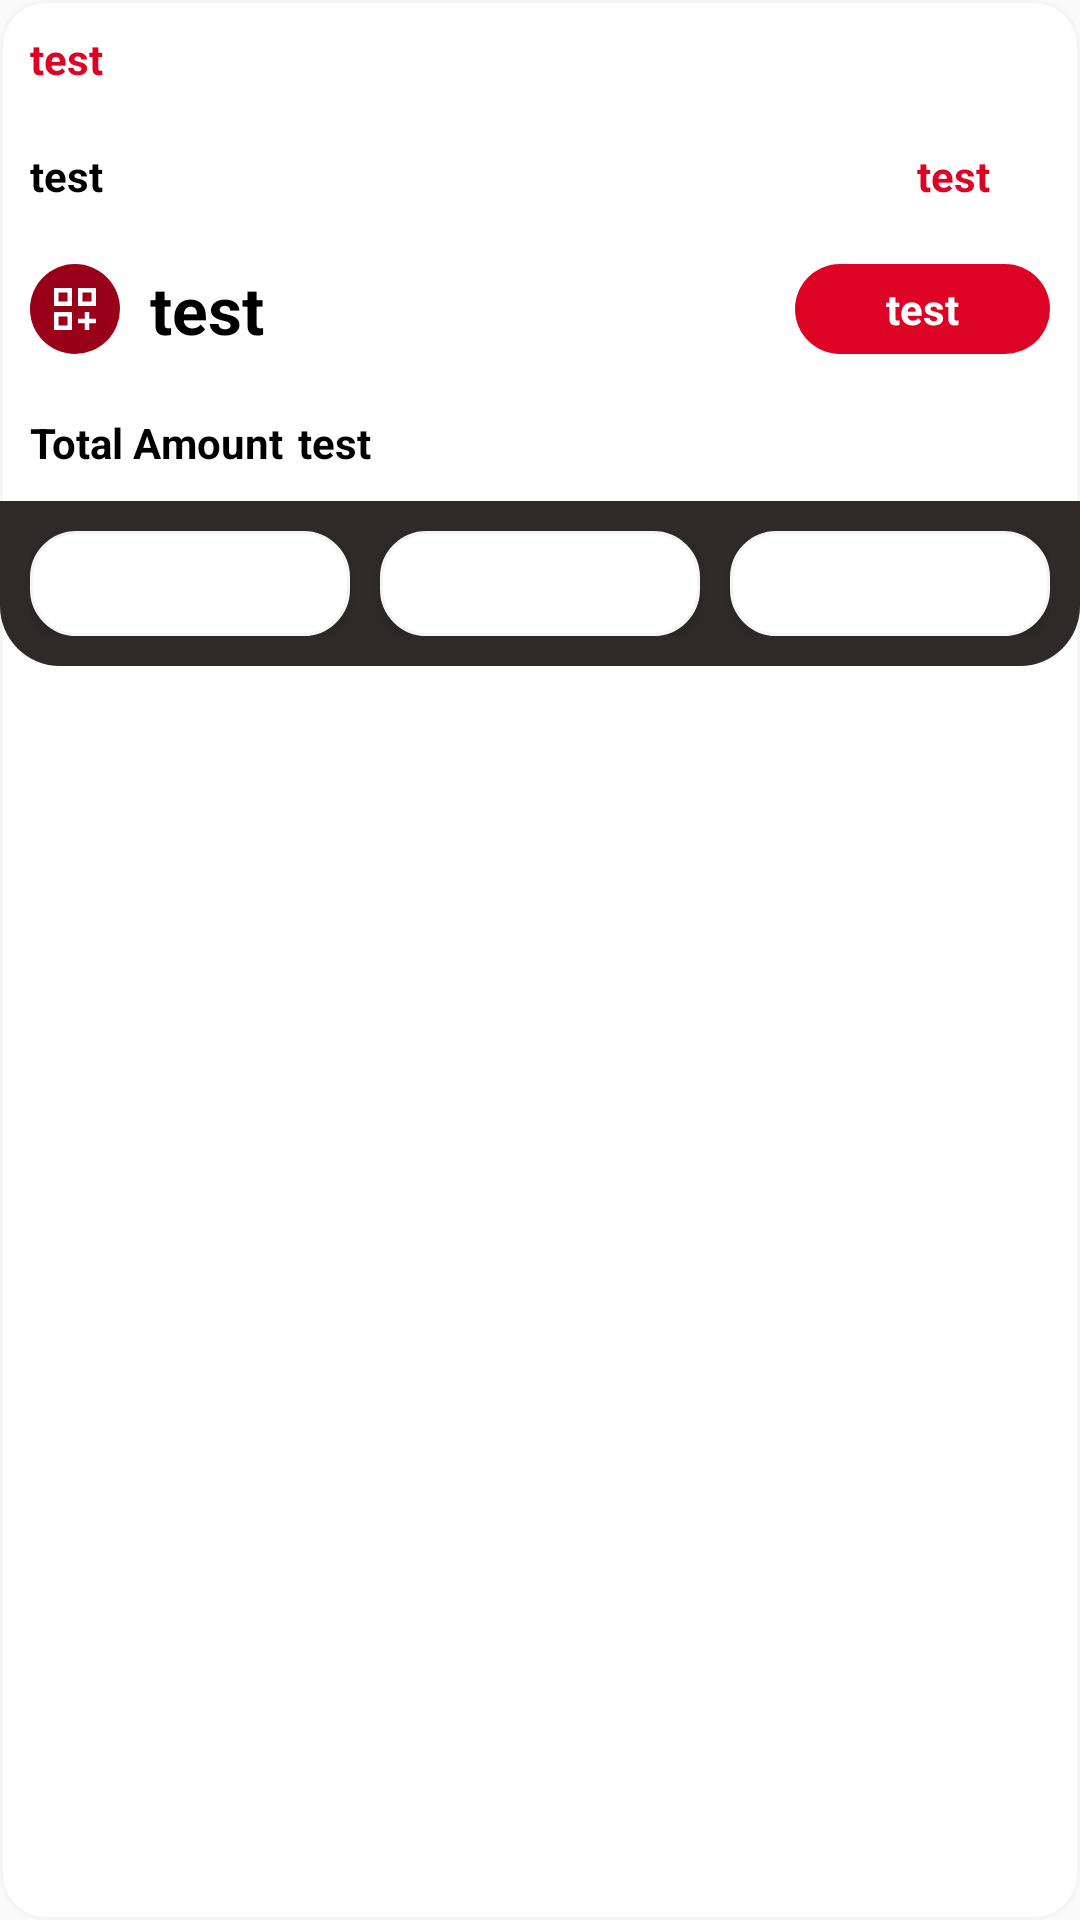

Screen size 1080*1920. Icon name, then its box in pixels as (x1, y1, x2, y2):
dashboard customize: (54, 288, 96, 330)
